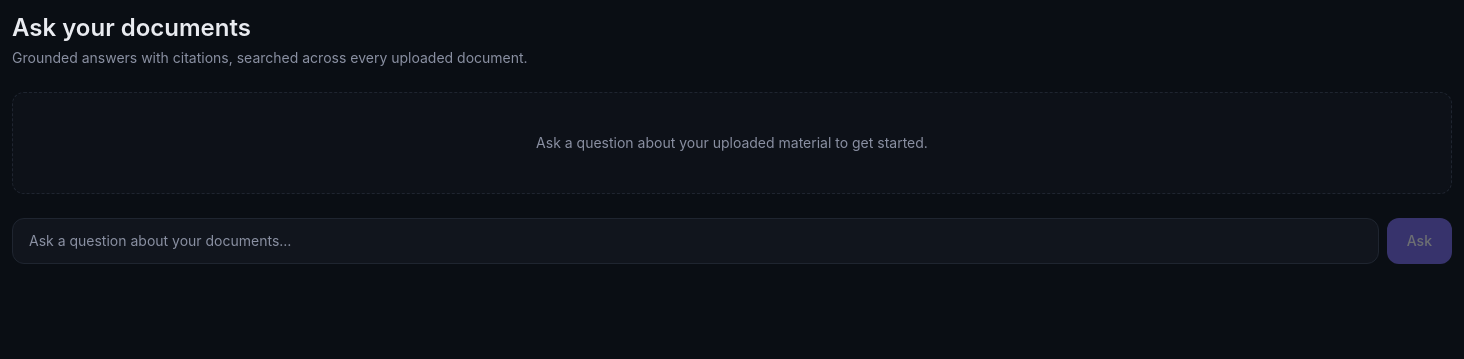
Test: insufficient evidence renders an explicit abstention state
Type "unrelated question" into the field labelled "Ask a question".
click(695, 241); type("unrelated question")  # box [12, 218, 1379, 264]
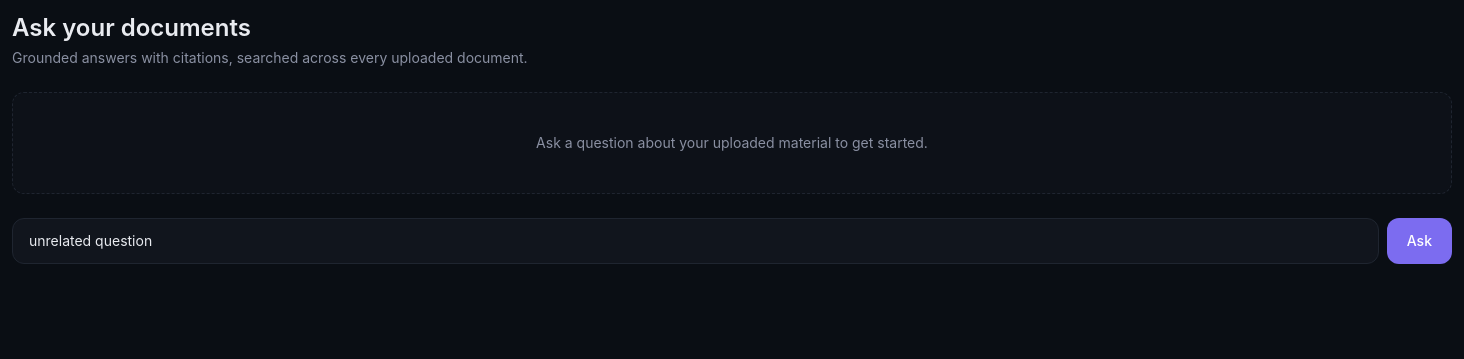
Click the button "Ask".
click(1419, 241)  # box [1387, 218, 1452, 264]
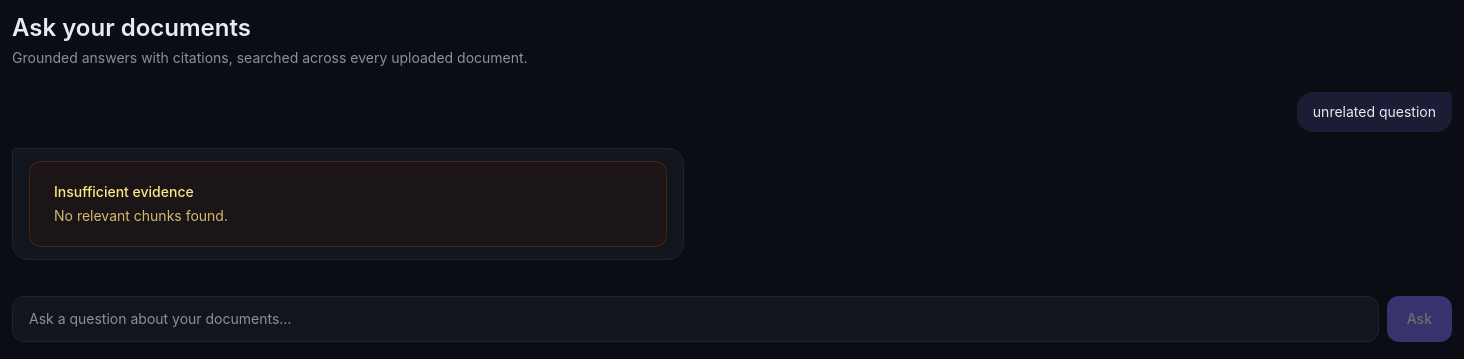
Now the text "Insufficient evidence" is shown, box [54, 183, 194, 200]
Now the text "No relevant chunks found." is shown, box [54, 207, 228, 224]
